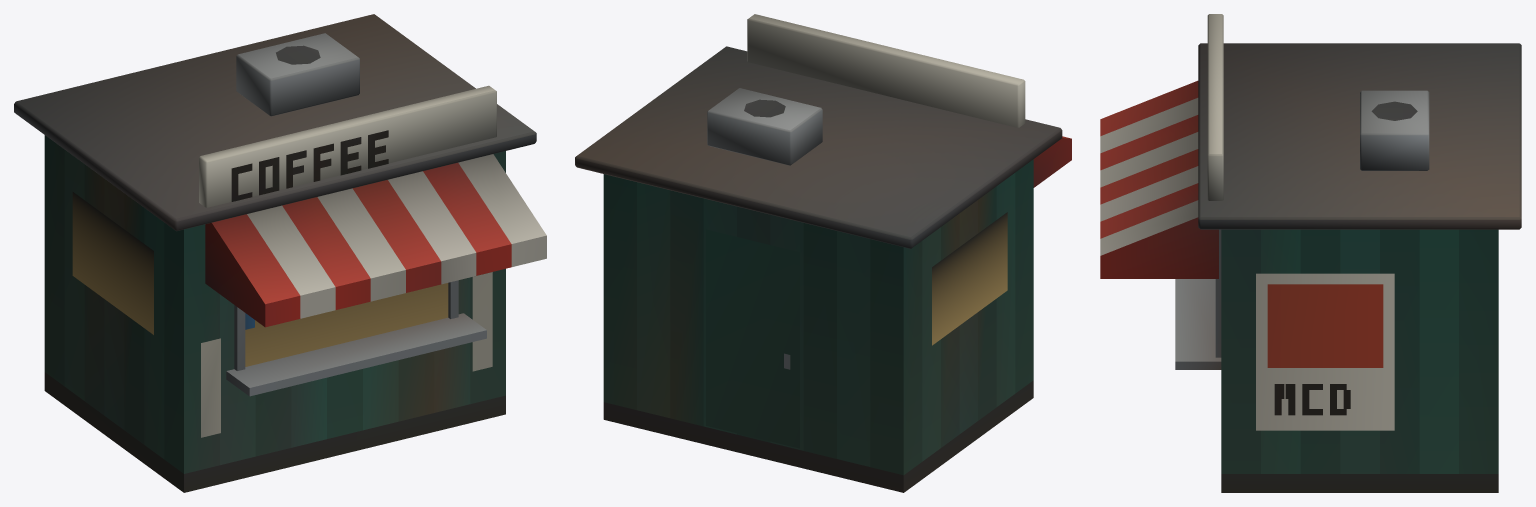
Rendered from kiosk.glb.
The picture shows the model from 3 angles, left to right: view 1: azimuth 30°, elevation 25°; view 2: azimuth 150°, elevation 25°; view 3: azimuth 270°, elevation 25°; orthographic projection. The views are drawn at different scales.
Visible parts, largest first — view 1: Kiosk; view 2: Kiosk; view 3: Kiosk.
Boxes of the visible parts, bbox=[...] form: Kiosk: bbox=[14, 14, 546, 492]; Kiosk: bbox=[575, 14, 1071, 492]; Kiosk: bbox=[1100, 14, 1521, 492].
Size of the model in its own units: 3.6 by 3.16 by 3.65.
